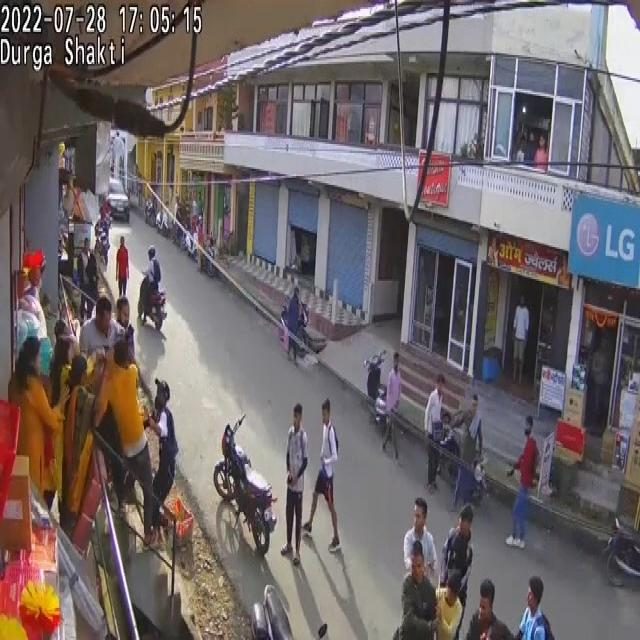fight: (21, 278, 178, 553), (92, 338, 160, 543), (23, 290, 84, 516), (148, 379, 178, 528), (115, 297, 138, 367)
non-fight: (303, 397, 342, 550), (282, 400, 309, 562), (506, 414, 539, 545), (399, 544, 439, 640), (441, 504, 476, 601), (402, 496, 438, 583), (422, 372, 447, 488), (444, 392, 479, 472), (383, 353, 402, 445), (78, 238, 100, 316), (511, 294, 530, 383), (142, 245, 162, 322), (285, 286, 302, 361), (116, 237, 129, 296)
